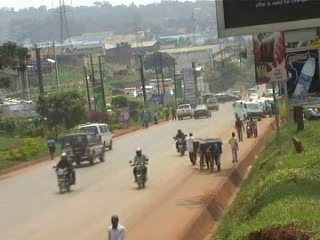Car: (59, 128, 107, 167), (192, 102, 213, 120), (212, 91, 240, 103), (247, 89, 261, 102)
Motorcycle: (126, 149, 151, 191), (51, 156, 77, 194), (171, 128, 188, 157)
